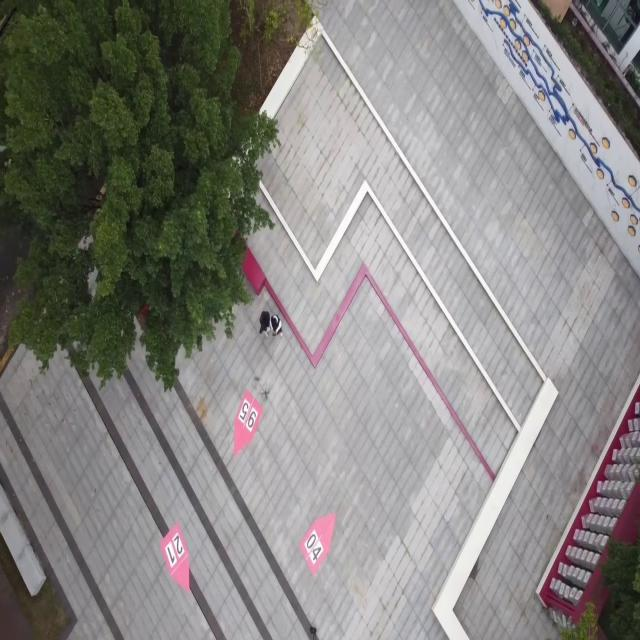-sign-: (158, 509, 200, 604), (296, 496, 338, 583), (227, 386, 268, 463)
